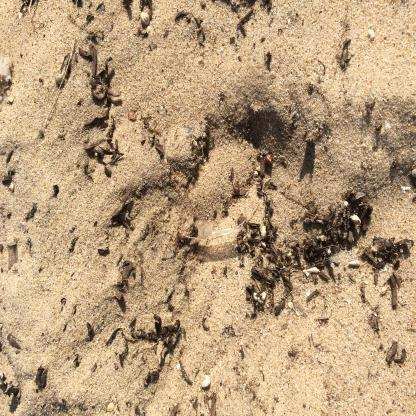plastik: (192, 221, 245, 244)
